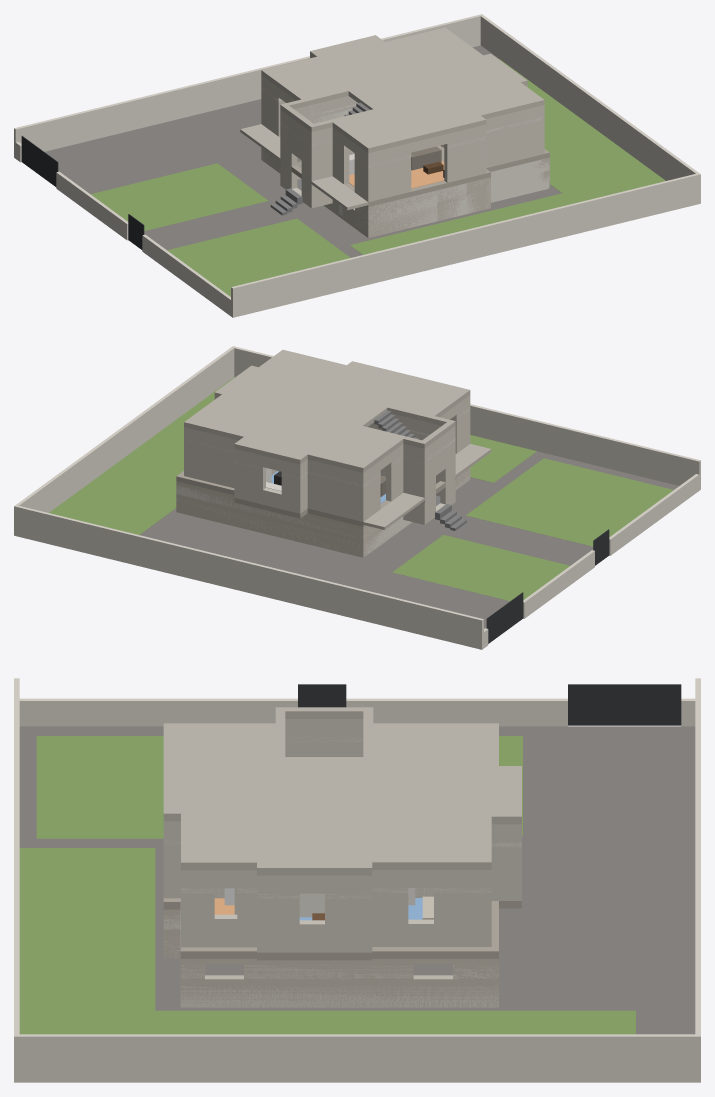
File: Project1_modello_disegnato.dae
3 renders of one model, top to bottom at view 1: azimuth 30°, elevation 25°; view 2: azimuth 150°, elevation 25°; view 3: azimuth 270°, elevation 25°, orthographic. The views are drawn at different scales.
Visible parts, largest first — view 1: Recinzioni, Esterni · prato, Solaio primo piano, Esterni · porfido, PT attuale · muri, Seminterrato progetto · muri, Seminterrato attuale · muri, Balconi e pianerottolo, Cancelli, Solaio PT attuale, Corpo scala sotto il PT, PT progetto · muri (+3 smaller); view 2: Recinzioni, Esterni · prato, Solaio primo piano, Esterni · porfido, PT attuale · muri, Seminterrato attuale · muri, Seminterrato progetto · muri, Balconi e pianerottolo, Cancelli, Solaio PT attuale, Scala condominiale, Corpo scala sotto il PT; view 3: Esterni · porfido, Esterni · prato, Recinzioni, Solaio primo piano, PT attuale · muri, Seminterrato attuale · muri, Seminterrato progetto · muri, Cancelli, Solaio PT attuale, PT progetto · muri.
Boxes of the visible parts, <box> form: Recinzioni: <box>14,14,700,317</box>; Esterni · prato: <box>90,59,665,296</box>; Solaio primo piano: <box>261,27,544,153</box>; Esterni · porfido: <box>45,45,561,257</box>; PT attuale · muri: <box>261,56,544,202</box>; Seminterrato progetto · muri: <box>261,148,549,235</box>; Seminterrato attuale · muri: <box>261,148,549,237</box>; Balconi e pianerottolo: <box>240,124,368,210</box>; Cancelli: <box>21,136,144,249</box>; Solaio PT attuale: <box>279,136,549,206</box>; Corpo scala sotto il PT: <box>280,159,332,208</box>; PT progetto · muri: <box>261,86,542,173</box>; Recinzioni: <box>14,346,700,649</box>; Esterni · prato: <box>49,377,673,601</box>; Solaio primo piano: <box>184,349,470,472</box>; Esterni · porfido: <box>139,451,678,628</box>; PT attuale · muri: <box>184,395,470,521</box>; Seminterrato attuale · muri: <box>176,467,470,557</box>; Seminterrato progetto · muri: <box>176,468,470,557</box>; Balconi e pianerottolo: <box>363,444,491,529</box>; Cancelli: <box>486,529,609,643</box>; Solaio PT attuale: <box>176,453,456,526</box>; Scala condominiale: <box>374,410,466,530</box>; Corpo scala sotto il PT: <box>403,474,455,524</box>; Esterni · porfido: <box>19,726,695,1034</box>; Esterni · prato: <box>19,736,635,1034</box>; Recinzioni: <box>14,678,700,1082</box>; Solaio primo piano: <box>163,707,521,875</box>; PT attuale · muri: <box>163,719,521,952</box>; Seminterrato attuale · muri: <box>163,909,498,1007</box>; Seminterrato progetto · muri: <box>163,914,498,1007</box>; Cancelli: <box>298,684,681,725</box>; Solaio PT attuale: <box>163,898,521,960</box>; PT progetto · muri: <box>164,737,521,917</box>.
Bounding box in the file's own units: 30 × 6.7 × 24.3.
